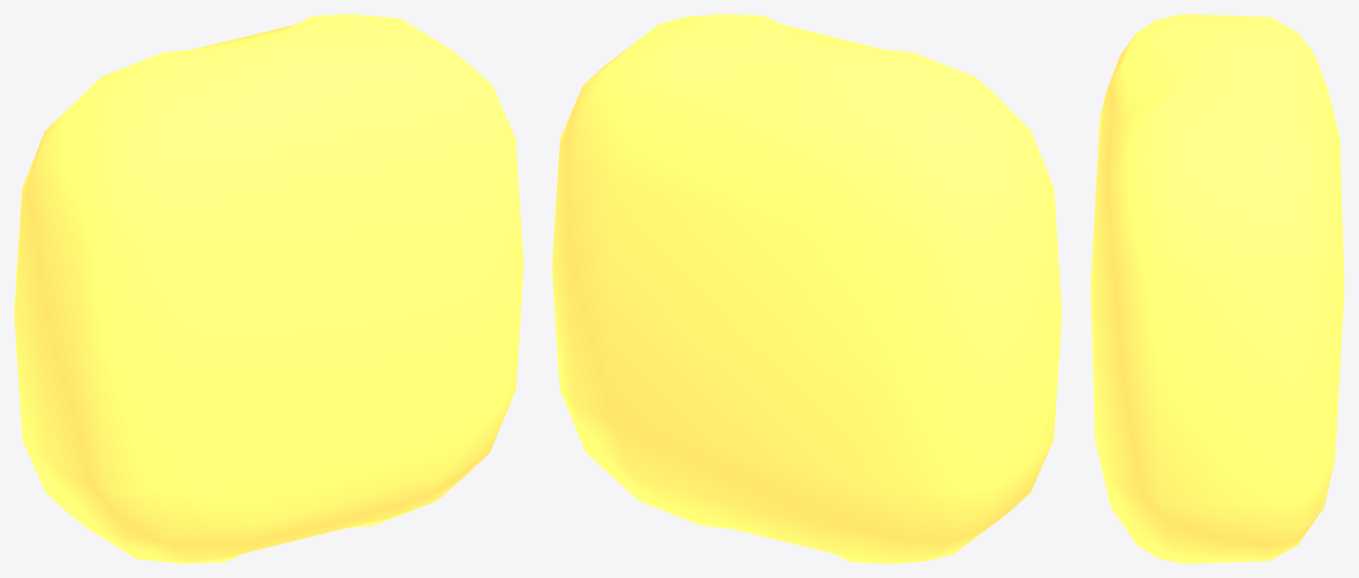
The model's file is Centinela_Emblema_Neon.fbx.
3 renders of one model, left to right at view 1: azimuth 30°, elevation 25°; view 2: azimuth 150°, elevation 25°; view 3: azimuth 270°, elevation 25°, orthographic. The views are drawn at different scales.
Visible parts, largest first — view 1: Centinela_Emblema_Neon; view 2: Centinela_Emblema_Neon; view 3: Centinela_Emblema_Neon.
Part boxes in pixels (bbox=[...]): Centinela_Emblema_Neon: bbox=[14, 14, 523, 563]; Centinela_Emblema_Neon: bbox=[552, 14, 1061, 563]; Centinela_Emblema_Neon: bbox=[1090, 14, 1344, 563].
Size of the model in its own units: 0.168 by 0.168 by 0.0857.
